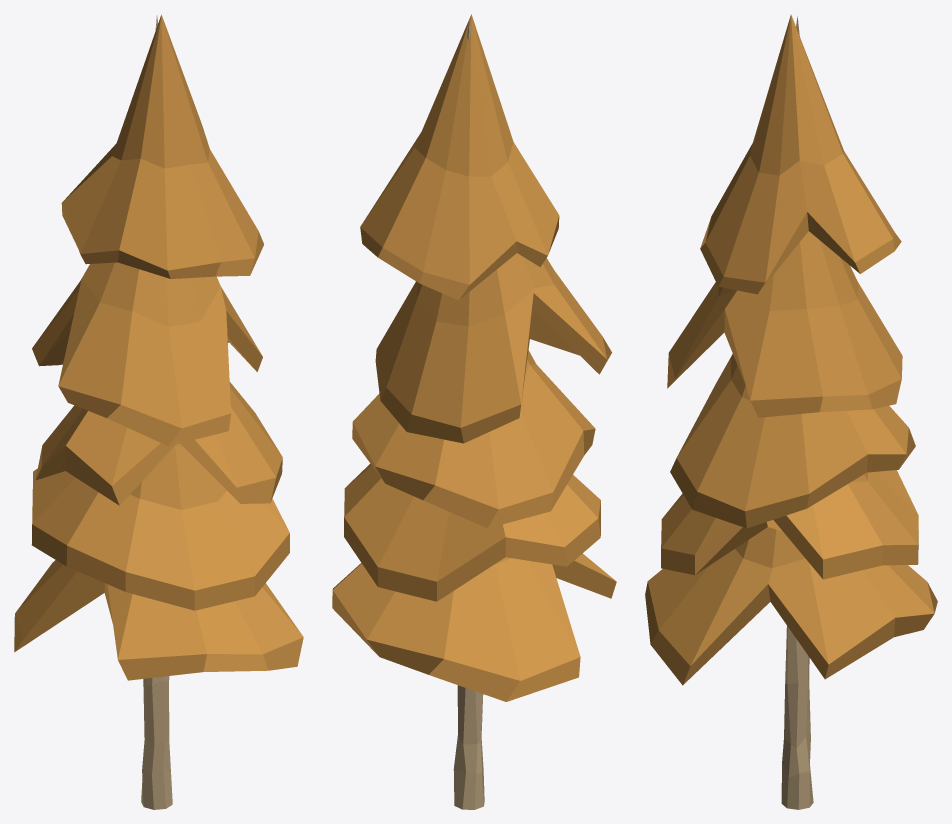
File: Pine_01.fbx
The picture shows the model from 3 angles, left to right: view 1: azimuth 30°, elevation 25°; view 2: azimuth 150°, elevation 25°; view 3: azimuth 270°, elevation 25°; orthographic projection.
Parts seen in each view (by area): view 1: Pine_1; view 2: Pine_1; view 3: Pine_1.
Part boxes in pixels (x1,y1,x2,y2): Pine_1: [14, 14, 303, 809]; Pine_1: [332, 14, 616, 809]; Pine_1: [645, 14, 937, 809].
Size of the model in its own units: 1777 by 5416 by 1820.
